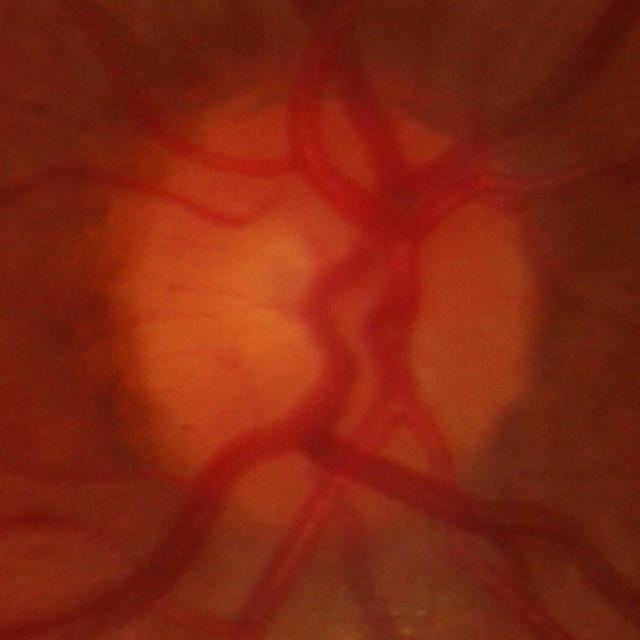OC: (210, 224, 341, 399)
OD: (117, 86, 546, 519)
